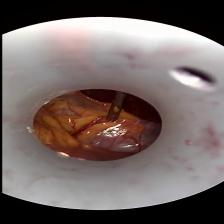Grasper: (100, 96, 124, 123)
